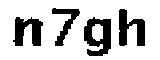7: (49, 5, 80, 50)
g: (81, 17, 113, 59)
h: (116, 8, 149, 48)
n: (8, 18, 45, 52)
